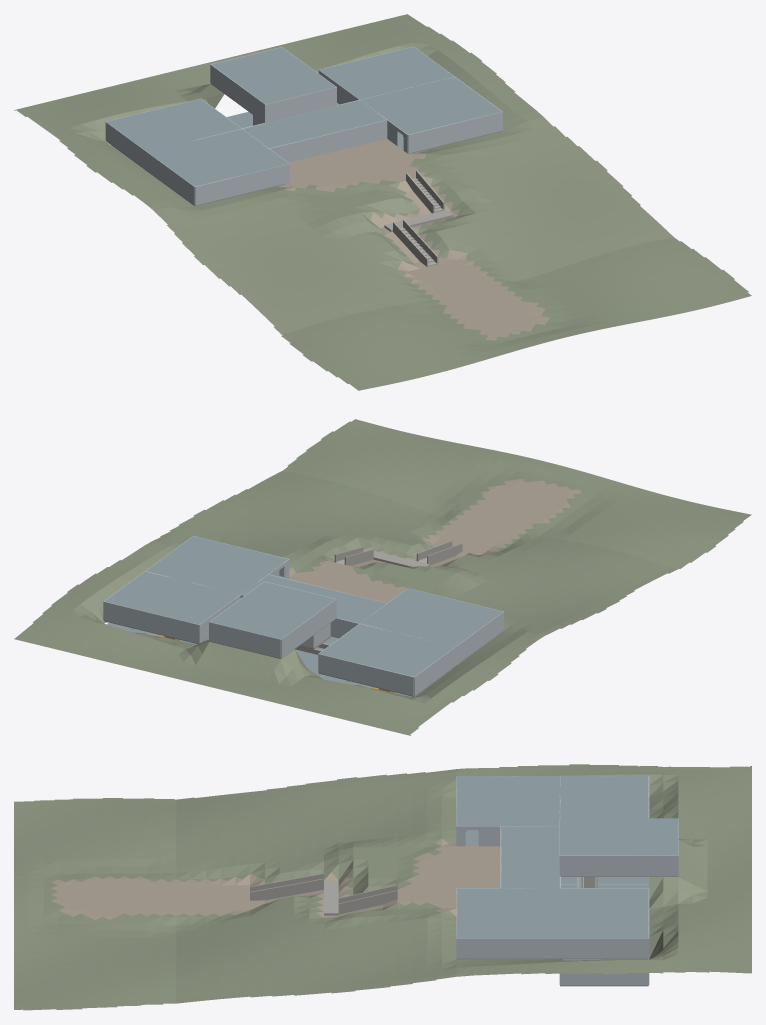
Rendered from founded-receiving-stairs.glb.
The picture shows the model from 3 angles, top to bottom: view 1: azimuth 30°, elevation 25°; view 2: azimuth 150°, elevation 25°; view 3: azimuth 270°, elevation 25°; orthographic projection. The views are drawn at different scales.
Visible parts, largest first — view 1: WLD-17 saved ground, Ceiling cap west, Ceiling cap east, Ceiling cap service, Ceiling cap magazine, Ceiling cap director, Ceiling cap gallery, Wall gallery S, Wall east S, Wall west S, Wall director S, Wall director W (+2 smaller); view 2: WLD-17 saved ground, Ceiling cap west, Ceiling cap east, Ceiling cap director, Ceiling cap service, Ceiling cap magazine, Wall service N, Wall magazine N, Ceiling cap gallery, Wall director N, Wall director W, Wall west W (+1 smaller); view 3: WLD-17 saved ground, Ceiling cap east, Ceiling cap west, Ceiling cap service, Ceiling cap director, Ceiling cap magazine, Ceiling cap gallery, Wall director E, Wall east E, Wall service E, Wall plant E, Battery route-02 east anchored parapet region0 (+5 smaller).
Part boxes in pixels (x1,y1,x2,y2): WLD-17 saved ground: (14, 14, 751, 390); Ceiling cap west: (148, 129, 289, 186); Ceiling cap east: (361, 77, 501, 134); Ceiling cap service: (319, 47, 454, 99); Ceiling cap magazine: (107, 99, 240, 151); Ceiling cap director: (211, 47, 335, 104); Ceiling cap gallery: (243, 100, 386, 148); Wall gallery S: (269, 120, 387, 162); Wall east S: (408, 112, 502, 153); Wall west S: (195, 164, 289, 205); Wall director S: (265, 87, 336, 122); Wall director W: (210, 64, 265, 122); WLD-17 saved ground: (14, 419, 751, 735); Ceiling cap west: (360, 588, 502, 646); Ceiling cap east: (146, 536, 287, 594); Ceiling cap director: (210, 582, 335, 639); Ceiling cap service: (104, 571, 240, 624); Ceiling cap magazine: (319, 624, 454, 676); Wall service N: (103, 601, 199, 643); Wall magazine N: (318, 654, 413, 695); Ceiling cap gallery: (241, 575, 386, 623); Wall director N: (209, 622, 280, 658); Wall director W: (281, 599, 336, 658); Wall west W: (456, 611, 503, 665); WLD-17 saved ground: (14, 764, 751, 1010); Ceiling cap east: (456, 888, 559, 938); Ceiling cap west: (456, 776, 559, 825); Ceiling cap service: (560, 888, 648, 938); Ceiling cap director: (560, 818, 678, 855); Ceiling cap magazine: (560, 776, 648, 818); Ceiling cap gallery: (501, 826, 559, 888); Wall director E: (560, 855, 678, 876); Wall east E: (456, 938, 559, 958); Wall service E: (560, 938, 648, 958); Wall plant E: (560, 973, 648, 985); Battery route-02 east anchored parapet region0: (250, 878, 323, 900).
Bounding box in the file's own units: 68 × 10.65 × 100.
